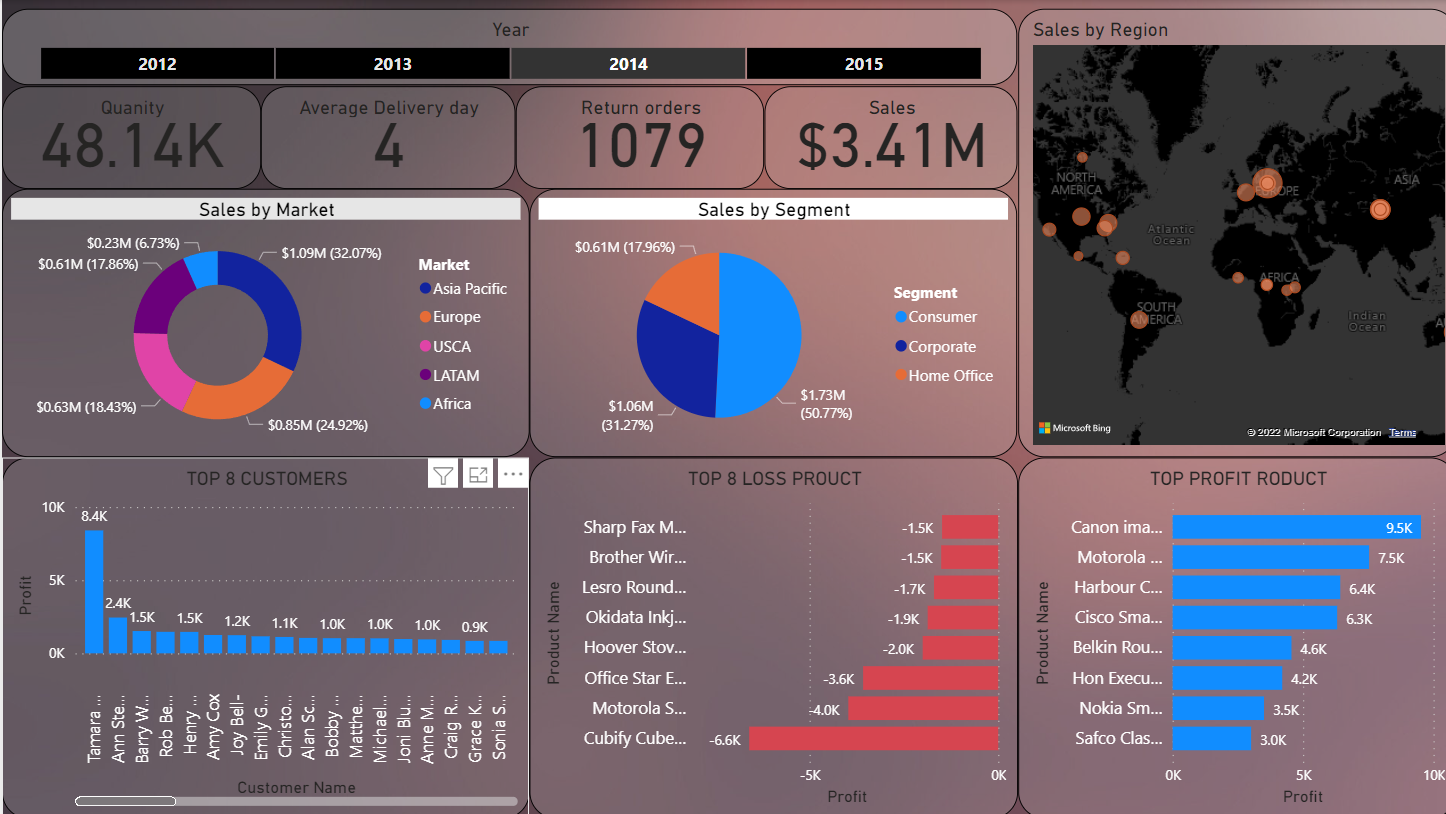

This screenshot's page, from the dashboard's own definition file:
{"tool":"powerbi","page":{"name":"Page 1","canvas":[1280,720],"ordinal":0},"visuals":[{"type":"card","title":"Sales","fields":{"Values":["Orders.Sales"]},"box":[670.2,75.5,222.5,90.6],"z":0},{"type":"card","title":"Quanity","fields":{"Values":["Orders.Quantity"]},"box":[0,75.5,228,90.6],"z":1},{"type":"card","title":"Average Delivery day","fields":{"Values":["Orders.delivery days"]},"box":[228,75.5,223.9,90.6],"z":2},{"type":"slicer","title":"Year","fields":{"Values":["Orders.Year"]},"box":[0,8.2,892.7,67.3],"z":3},{"type":"card","title":"Return orders","fields":{"Values":["Returns.order return"]},"box":[451.8,75.5,218.4,90.6],"z":4},{"type":"map","fields":{"Category":["Orders.Region"],"Size":["Orders.Sales"]},"box":[894.1,8.2,385.9,394.2],"z":5},{"type":"barChart","title":"TOP  PROFIT RODUCT","fields":{"Y":["Orders.Profit"],"Category":["Orders.Product Name"]},"box":[894.1,402.4,385.9,317.3],"z":6},{"type":"barChart","title":"TOP 8 LOSS PROUCT","fields":{"Y":["Orders.Profit"],"Category":["Orders.Product Name"]},"box":[464.2,402.4,429.9,317.3],"z":7},{"type":"pieChart","fields":{"Category":["Orders.Segment"],"Y":["Orders.Sales"]},"box":[464.2,166.2,428.5,236.2],"z":8},{"type":"donutChart","fields":{"Y":["Orders.Sales"],"Category":["Orders.Market"]},"box":[0,166.2,464.2,236.2],"z":9},{"type":"clusteredColumnChart","title":"TOP 8 CUSTOMERS","fields":{"Y":["Orders.Profit"],"Category":["Orders.Customer Name"]},"box":[0,402.4,464.2,317.3],"z":10}]}

Visuals, with their boxes in screenshot pixels (x1, y1, x2, y2), scaled from the page's 1280x720 canvas onto the 1446x814 screenshot:
"Sales" card: [757,85,1008,188]
"Quanity" card: [0,85,258,188]
"Average Delivery day" card: [258,85,511,188]
"Year" slicer: [0,9,1008,85]
"Return orders" card: [510,85,757,188]
map - Orders.Region x Orders.Sales: [1010,9,1445,455]
"TOP  PROFIT RODUCT" barChart: [1010,455,1445,813]
"TOP 8 LOSS PROUCT" barChart: [524,455,1010,813]
pieChart - Orders.Segment x Orders.Sales: [524,188,1008,455]
donutChart - Orders.Sales x Orders.Market: [0,188,524,455]
"TOP 8 CUSTOMERS" clusteredColumnChart: [0,455,524,813]
